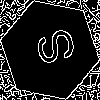S: (25, 25, 78, 72)
